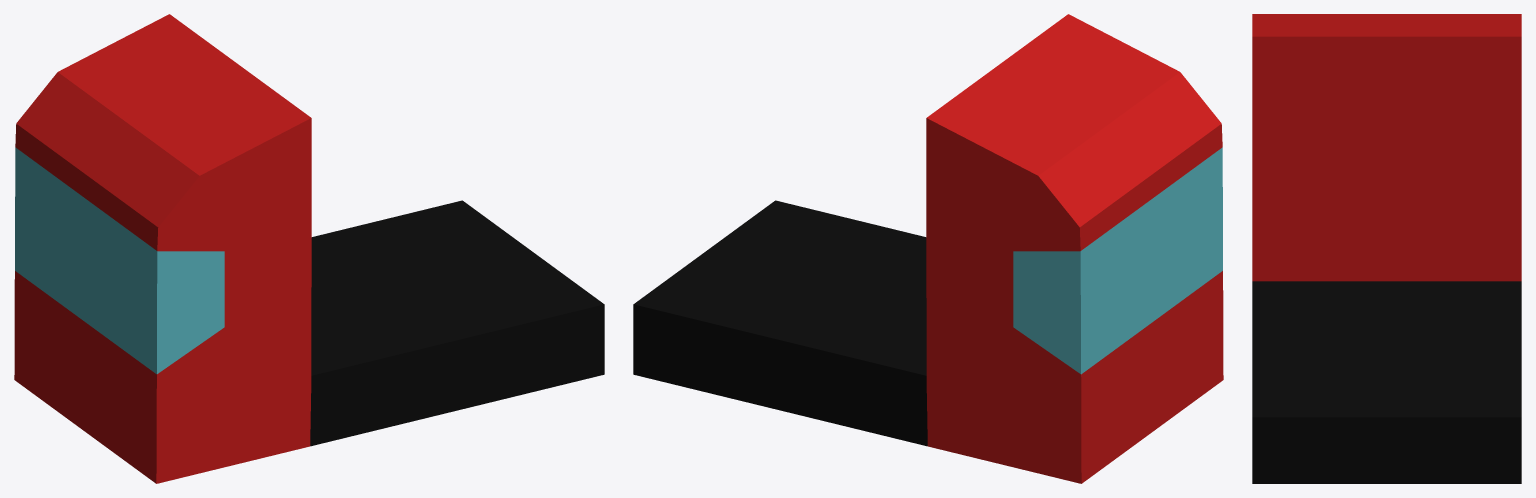
File: truck_front.obj
The picture shows the model from 3 angles, left to right: view 1: azimuth 30°, elevation 25°; view 2: azimuth 150°, elevation 25°; view 3: azimuth 270°, elevation 25°; orthographic projection. The views are drawn at different scales.
Visible parts, largest first — view 1: Cube.001; view 2: Cube.001; view 3: Cube.001.
Part boxes in pixels (x1,y1,x2,y2): Cube.001: [14, 14, 604, 483]; Cube.001: [633, 14, 1223, 483]; Cube.001: [1252, 14, 1521, 483].
Bounding box in the file's own units: 3.64 × 2.55 × 2.
